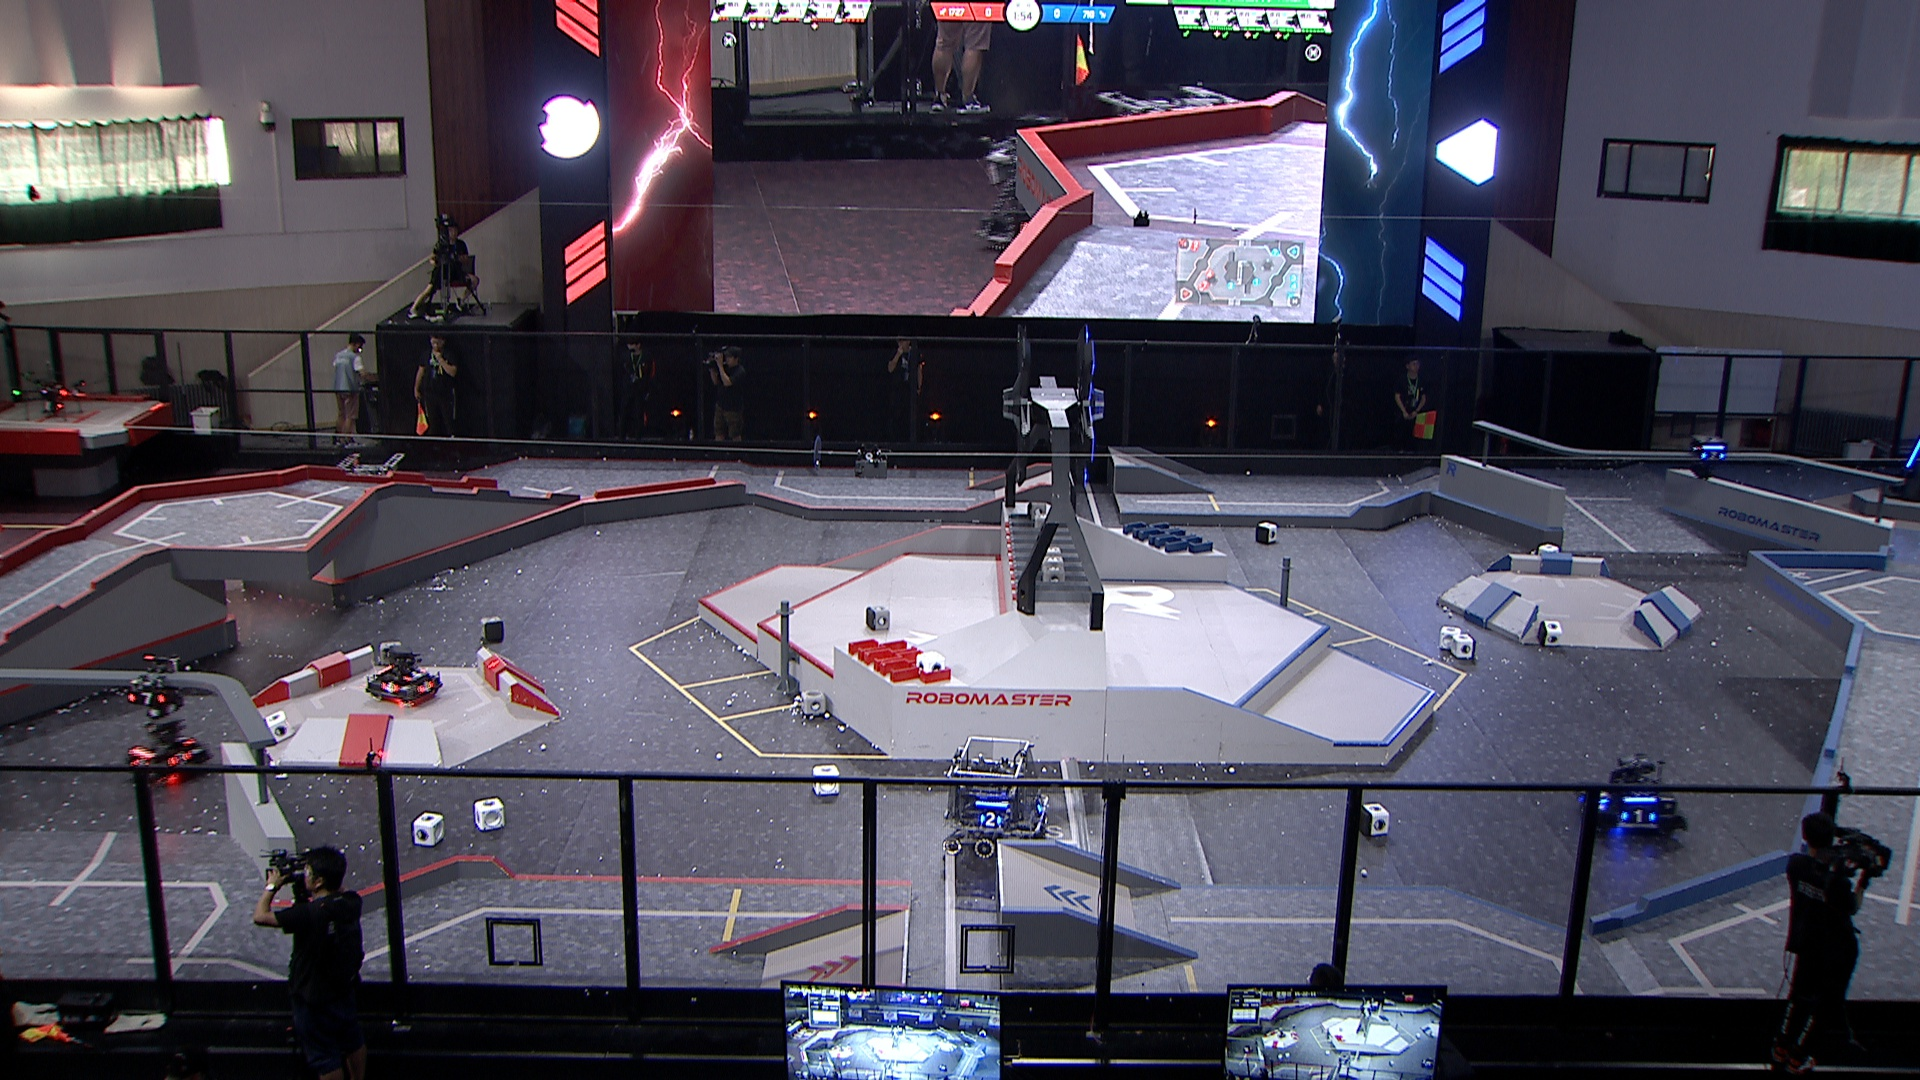armor: (127, 688, 167, 705), (1619, 808, 1659, 825), (1905, 440, 1920, 469), (167, 752, 195, 766), (978, 812, 1004, 827), (404, 669, 427, 683), (129, 756, 154, 769), (1596, 790, 1614, 807), (1700, 450, 1726, 462), (177, 733, 199, 746), (382, 680, 400, 695), (1036, 796, 1048, 815), (418, 680, 434, 694)
base: (1879, 425, 1920, 505)
car: (944, 736, 1054, 861), (1575, 754, 1687, 843), (127, 716, 214, 785), (327, 450, 405, 522), (367, 642, 442, 711)
ignore: (977, 113, 1067, 256), (1097, 82, 1238, 119)
watcher: (125, 654, 189, 719), (1689, 434, 1730, 481)
